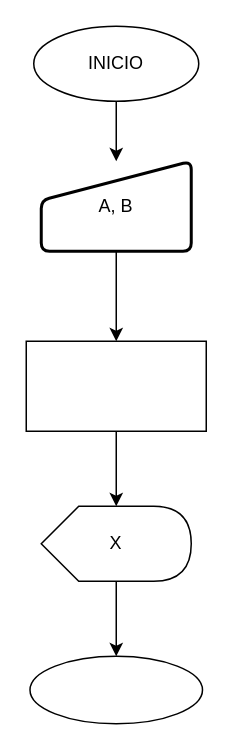
The diagram is 233 pixels wide and 750 high, and some of its shapes have lost their labels. The centre of each missing label's shape, as x and y in pixels:
FIM: the point at 115,689
X<-(A-B)^2: the point at 115,385
